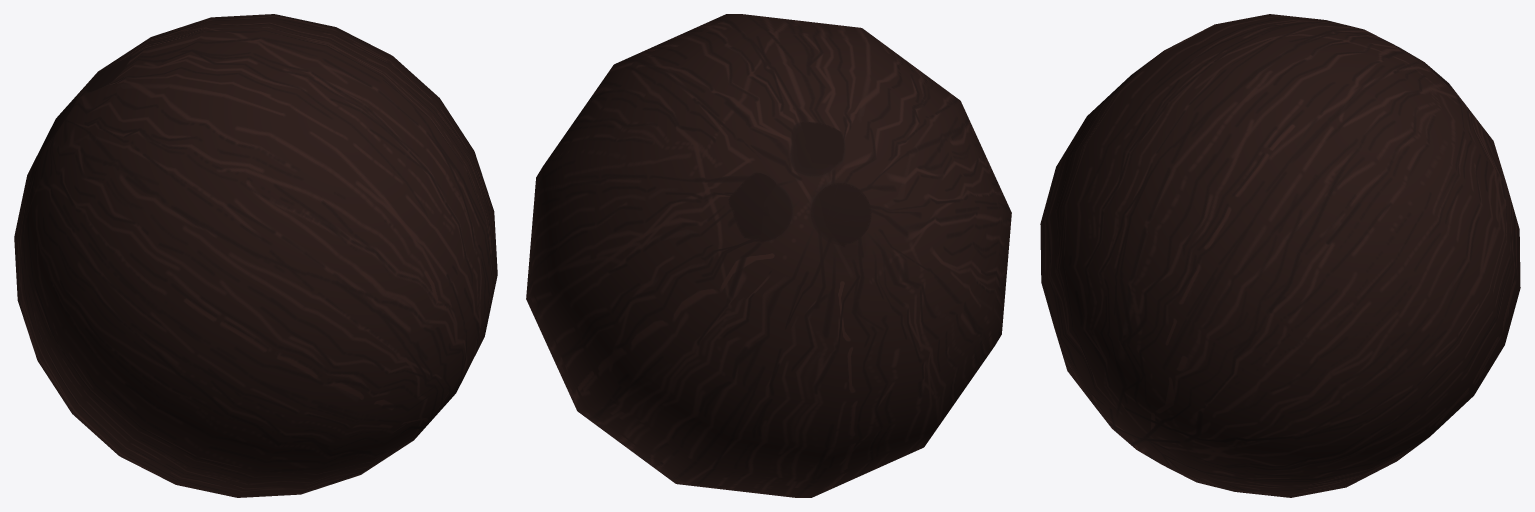
Rendered from coconut.fbx.
The picture shows the model from 3 angles, left to right: view 1: azimuth 30°, elevation 25°; view 2: azimuth 150°, elevation 25°; view 3: azimuth 270°, elevation 25°; orthographic projection.
Parts seen in each view (by area): view 1: pSphere1; view 2: pSphere1; view 3: pSphere1.
Boxes of the visible parts, left/top/right/bottom form: pSphere1: left=14, top=14, right=497, bottom=497; pSphere1: left=526, top=14, right=1011, bottom=497; pSphere1: left=1040, top=14, right=1520, bottom=497.
Bounding box in the file's own units: 130 × 131 × 130.
1 material, 1 textured.
